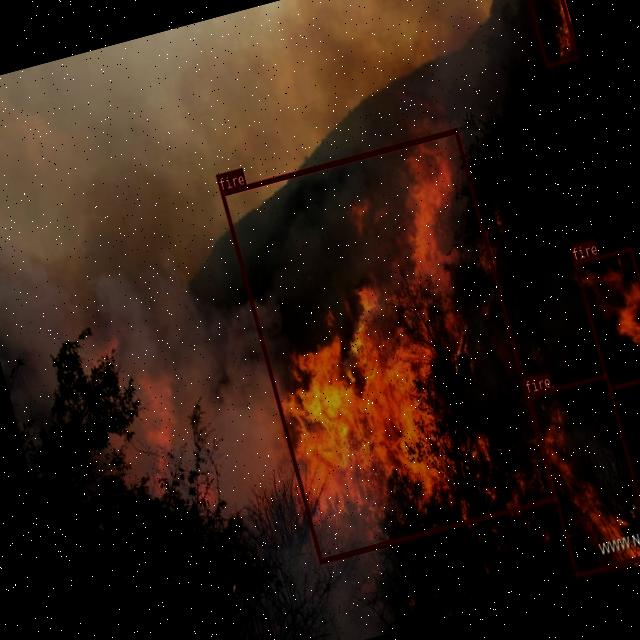fire: (218, 127, 556, 563), (525, 371, 640, 576), (572, 245, 640, 390), (519, 0, 578, 68)
